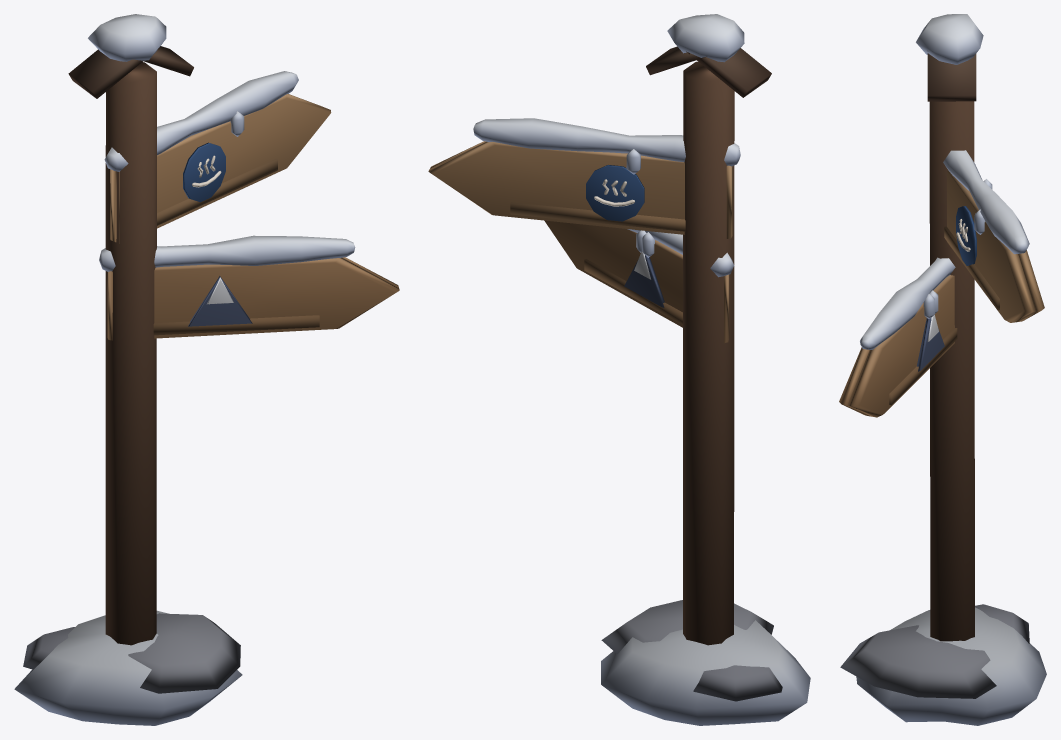
The model's file is rg-onsen-signpost.glb.
3 renders of one model, left to right at view 1: azimuth 30°, elevation 25°; view 2: azimuth 150°, elevation 25°; view 3: azimuth 270°, elevation 25°, orthographic.
Visible parts, largest first — view 1: body; view 2: body; view 3: body.
Boxes of the visible parts, x1,y1,x2,y2 form: body: [14, 14, 399, 725]; body: [428, 14, 810, 725]; body: [839, 14, 1046, 725].
Bounding box in the file's own units: 0.9797 × 1.87 × 0.5119.
